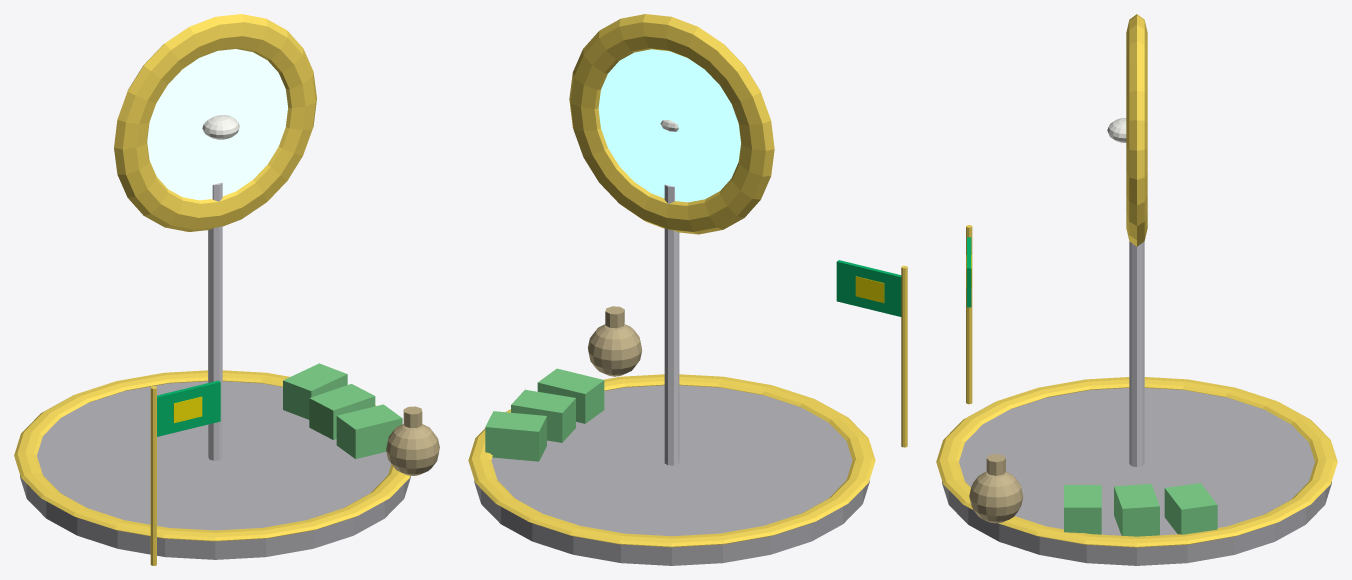
The model's file is Lupa_L3.fbx.
The picture shows the model from 3 angles, left to right: view 1: azimuth 30°, elevation 25°; view 2: azimuth 150°, elevation 25°; view 3: azimuth 270°, elevation 25°; orthographic projection.
Visible parts, largest first — view 1: Lupa_L3.001; view 2: Lupa_L3.001; view 3: Lupa_L3.001.
Part boxes in pixels (left/top/right/bottom): Lupa_L3.001: left=14, top=14, right=439, bottom=565; Lupa_L3.001: left=468, top=14, right=907, bottom=565; Lupa_L3.001: left=936, top=14, right=1337, bottom=565.
Size of the model in its own units: 3.71 by 4.68 by 3.71.
